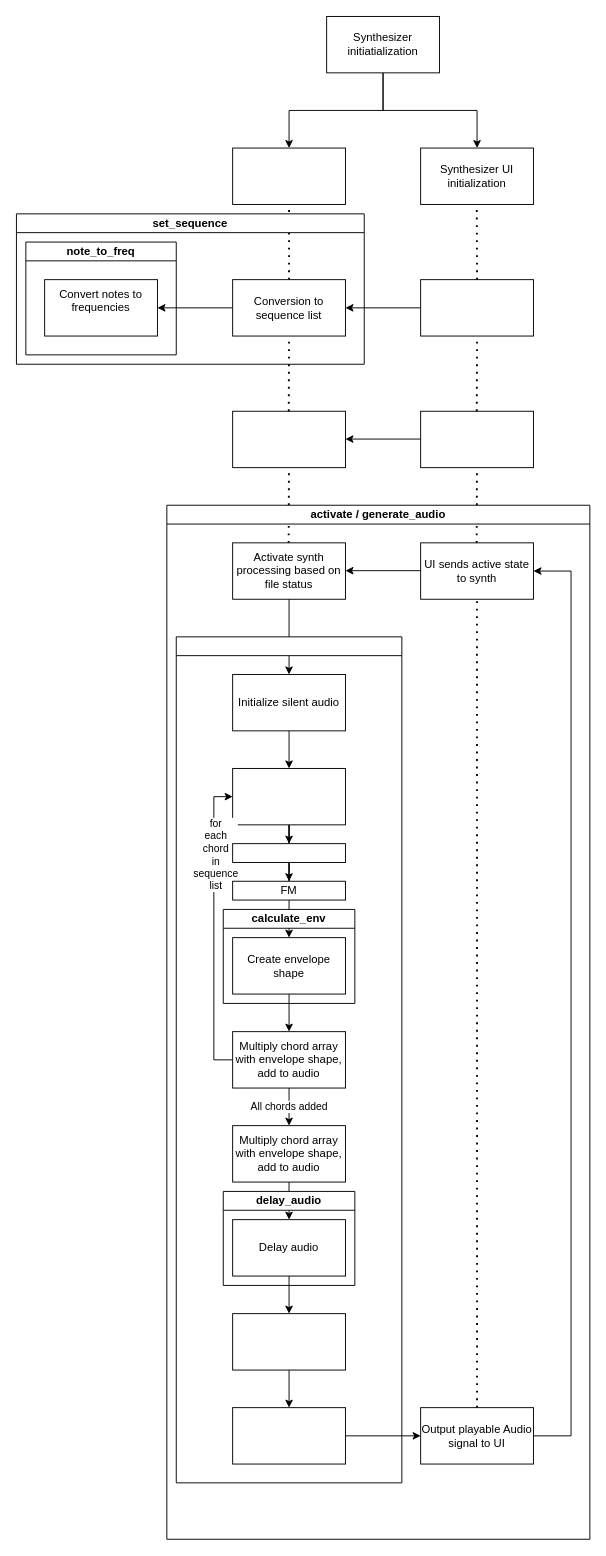
This 606x1556 diagram has some shape labels left out. Each missing label, with the box of its shape:
_bell_base_generator: (175, 636, 402, 1483)
Class variables modified: (232, 410, 345, 468)
Default parameters set (init): (232, 147, 345, 204)
File selection (REQUIRED): (420, 279, 533, 336)
Initialize the note/chord: (232, 768, 345, 825)
Output signal: (232, 1407, 345, 1464)
PWM: (232, 843, 345, 862)
Reverse audio: (232, 1313, 345, 1370)
UI Tampering with widgets (OPTIONAL): (420, 410, 533, 468)
